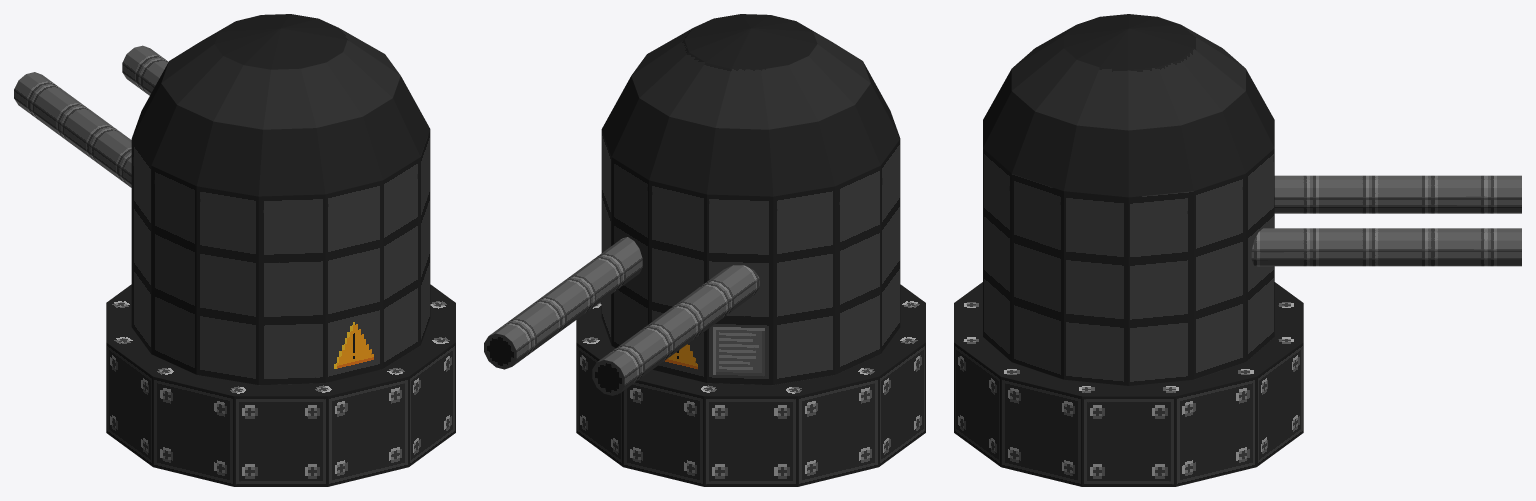
File: basic turret - merged.gltf
3 views of the same model, side by side, from view 1: azimuth 30°, elevation 25°; view 2: azimuth 150°, elevation 25°; view 3: azimuth 270°, elevation 25° (orthographic).
Visible parts, largest first — view 1: gun; view 2: gun; view 3: gun.
Boxes of the visible parts, x1,y1,x2,y2 form: gun: (14,14,455,486); gun: (484,14,925,486); gun: (954,14,1521,486).
Size of the model in its own units: 3.5 by 4.25 by 5.69.
3 materials, 3 textured.
